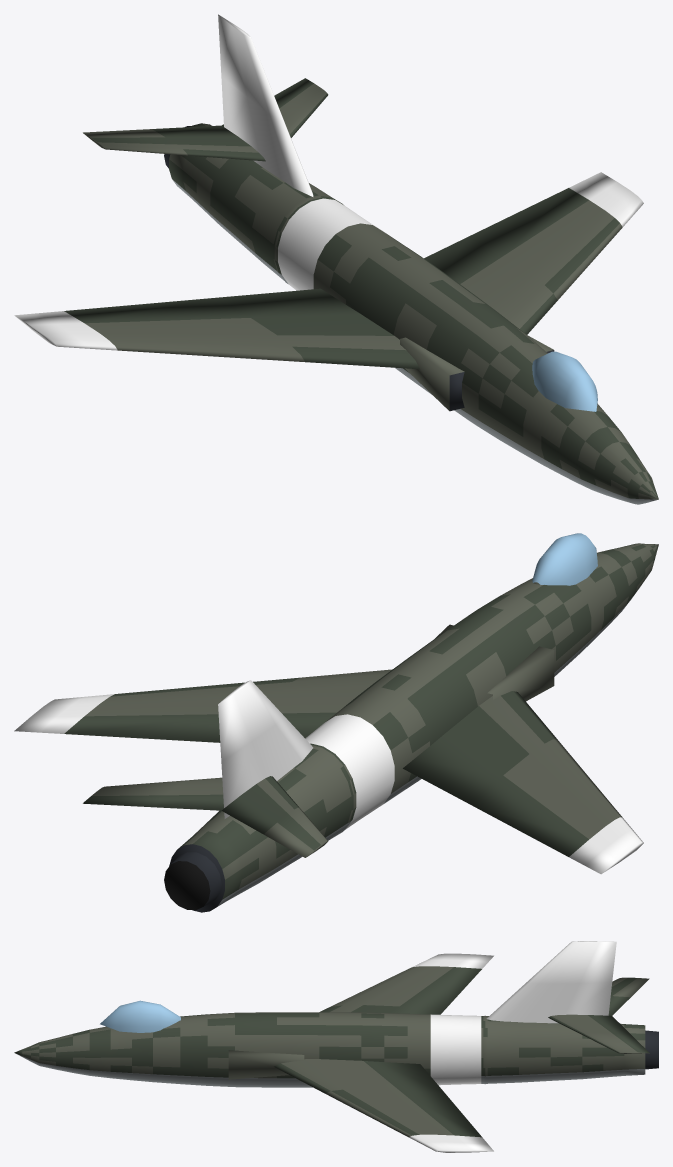
File: hunter_f6.glb
3 renders of one model, top to bottom at view 1: azimuth 30°, elevation 25°; view 2: azimuth 150°, elevation 25°; view 3: azimuth 270°, elevation 25°, orthographic. The views are drawn at different scales.
Parts seen in each view (by area): view 1: body; view 2: body; view 3: body.
Part boxes in pixels (left/top/right/bottom): body: left=14, top=14, right=658, bottom=504; body: left=14, top=533, right=658, bottom=912; body: left=14, top=941, right=658, bottom=1152.
Bounding box in the file's own units: 10.26 × 3.5 × 14.28.
